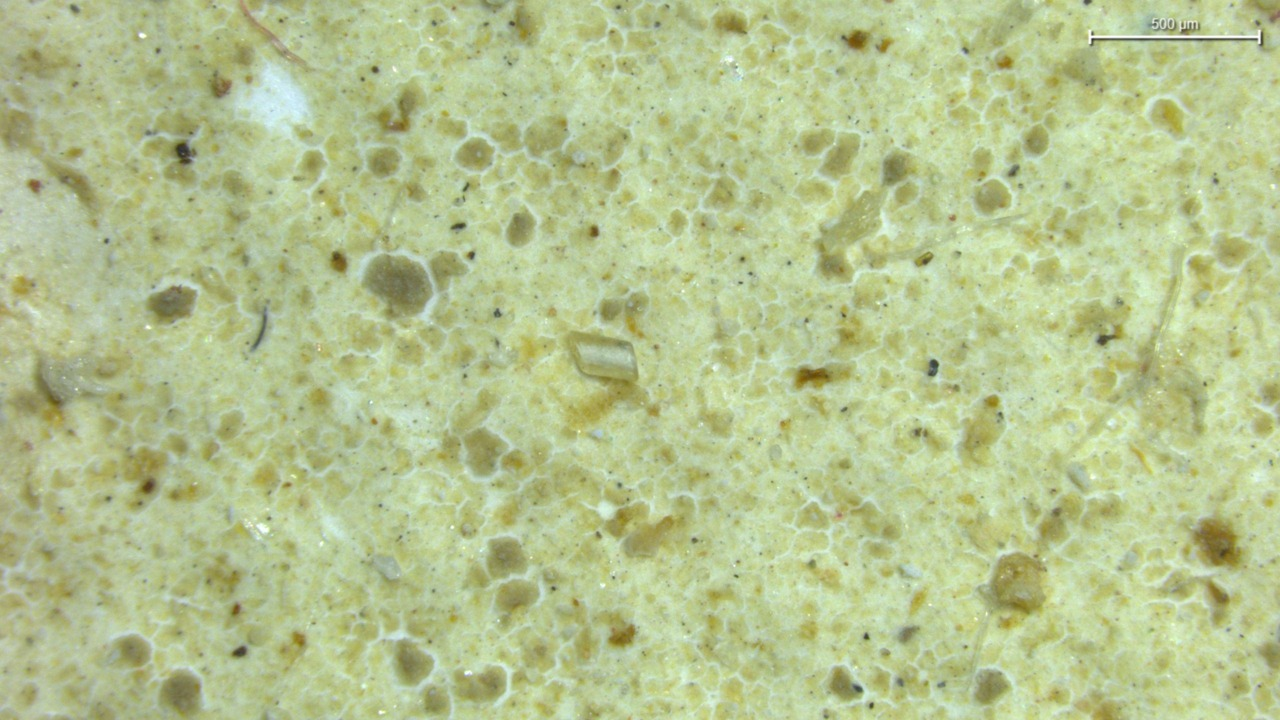microplastic_fragment: (567, 333, 638, 382), (989, 552, 1046, 611), (40, 358, 107, 404), (372, 553, 402, 580)
